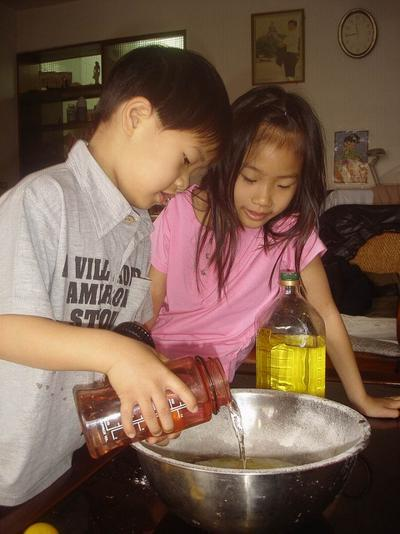person: (2, 47, 232, 513)
